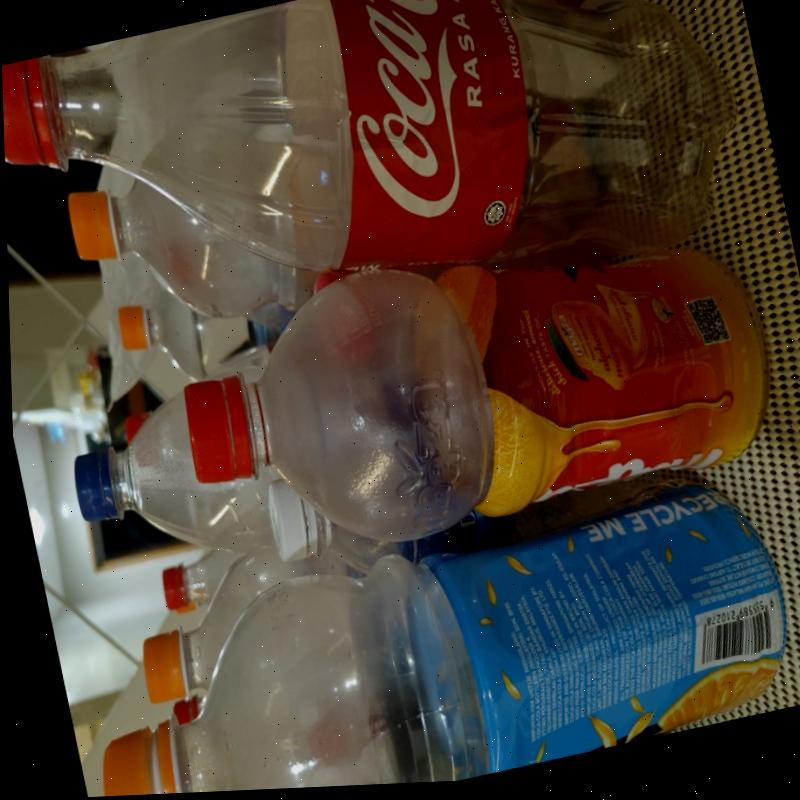botella: (0, 0, 745, 360), (53, 476, 800, 799), (163, 215, 776, 587), (38, 325, 309, 591), (38, 106, 335, 341), (108, 528, 330, 720), (86, 284, 211, 401), (130, 545, 232, 648)
